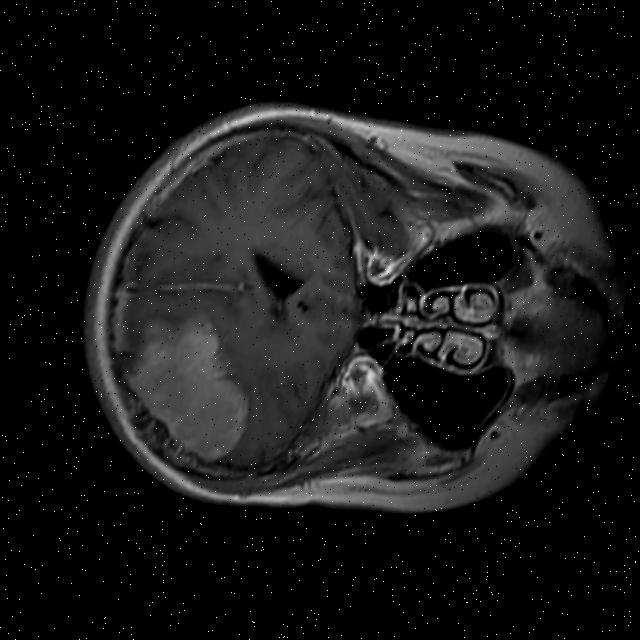Meningioma: (95, 294, 278, 480)
